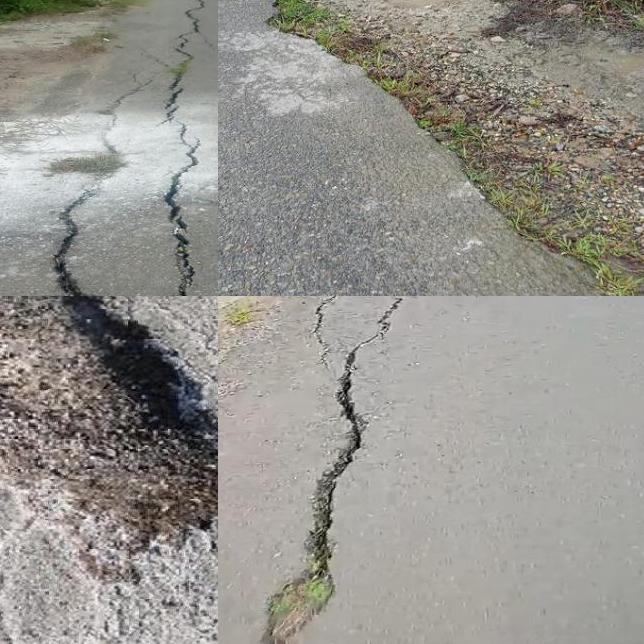Lubang: (0, 296, 218, 548)
Memanjang: (247, 296, 416, 644), (157, 0, 213, 296), (37, 180, 106, 296)
Pinggir: (232, 0, 623, 296)
